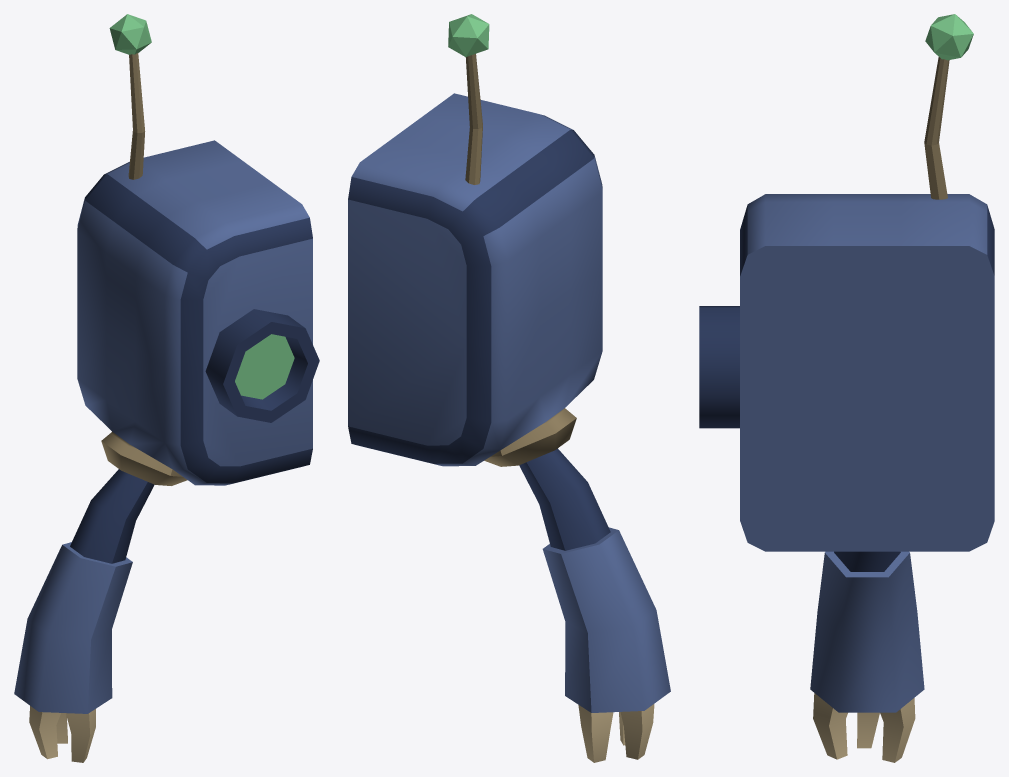
The model's file is robo1.fbx.
3 views of the same model, side by side, from view 1: azimuth 30°, elevation 25°; view 2: azimuth 150°, elevation 25°; view 3: azimuth 270°, elevation 25° (orthographic). The views are drawn at different scales.
Visible parts, largest first — view 1: roboL; view 2: roboL; view 3: roboL.
Part boxes in pixels (left/top/right/bottom): roboL: left=14, top=14, right=319, bottom=762; roboL: left=348, top=14, right=670, bottom=762; roboL: left=699, top=14, right=994, bottom=762.
Bounding box in the file's own units: 201 × 567 × 190.
